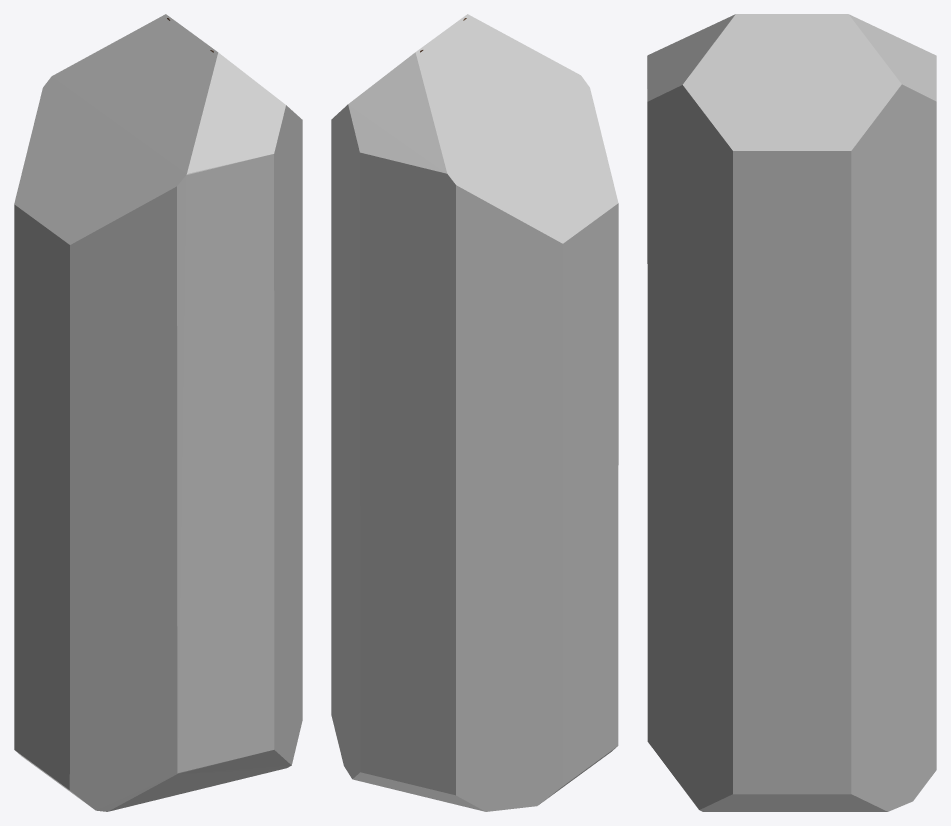
The model's file is SM_CCJ_Candlestick.fbx.
3 views of the same model, side by side, from view 1: azimuth 30°, elevation 25°; view 2: azimuth 150°, elevation 25°; view 3: azimuth 270°, elevation 25° (orthographic). The views are drawn at different scales.
Parts seen in each view (by area): view 1: SM_CCJ_Candlestick_ConvexHulls; view 2: SM_CCJ_Candlestick_ConvexHulls; view 3: SM_CCJ_Candlestick_ConvexHulls.
Boxes of the visible parts, x1,y1,x2,y2 form: SM_CCJ_Candlestick_ConvexHulls: [14, 14, 302, 811]; SM_CCJ_Candlestick_ConvexHulls: [331, 14, 618, 811]; SM_CCJ_Candlestick_ConvexHulls: [647, 14, 936, 811].
Bounding box in the file's own units: 23.02 × 23.03 × 67.67.
Materials: 2 (1 with a texture image).
